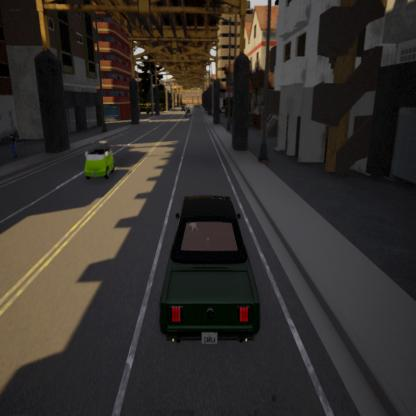Cars: (154, 160, 266, 373), (83, 123, 116, 203), (183, 101, 192, 124)
